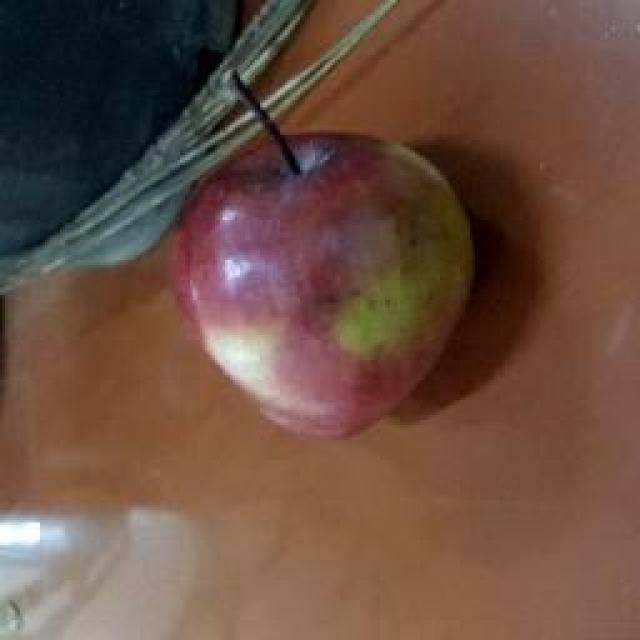Good_Apple: (165, 132, 478, 445)
